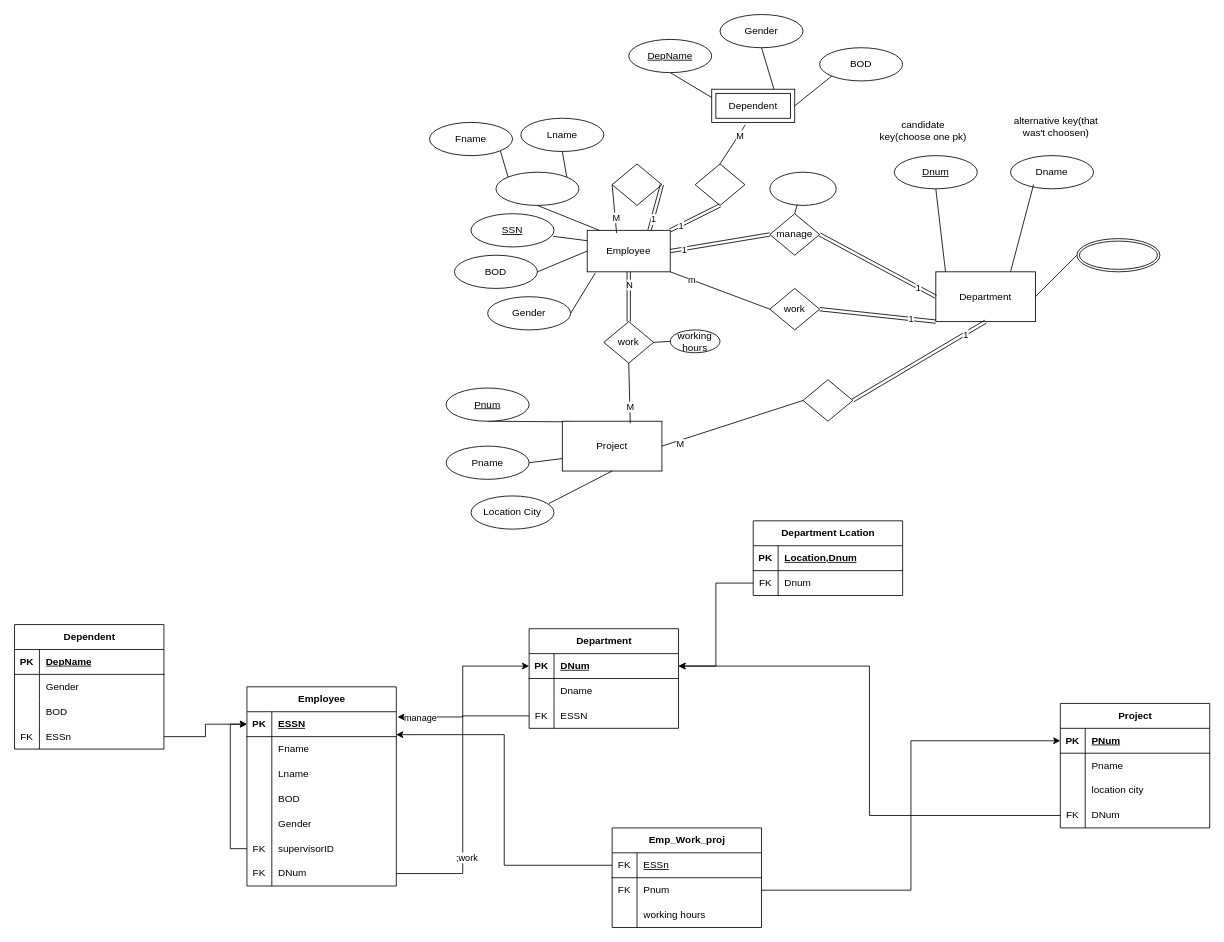
The diagram is 1224 pixels wide and 942 high, and some of its shapes have lost their labels. Each missing label, with the centre of its shape:
"assign" goes at (x=827, y=400).
"have" goes at (x=719, y=184).
"hiring date" goes at (x=802, y=188).
"Locations" goes at (x=1118, y=255).
"Name" goes at (x=537, y=188).
"supervise" goes at (x=636, y=184).
